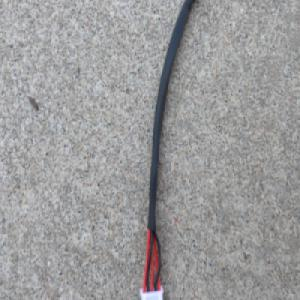Wire: (137, 0, 199, 300)
